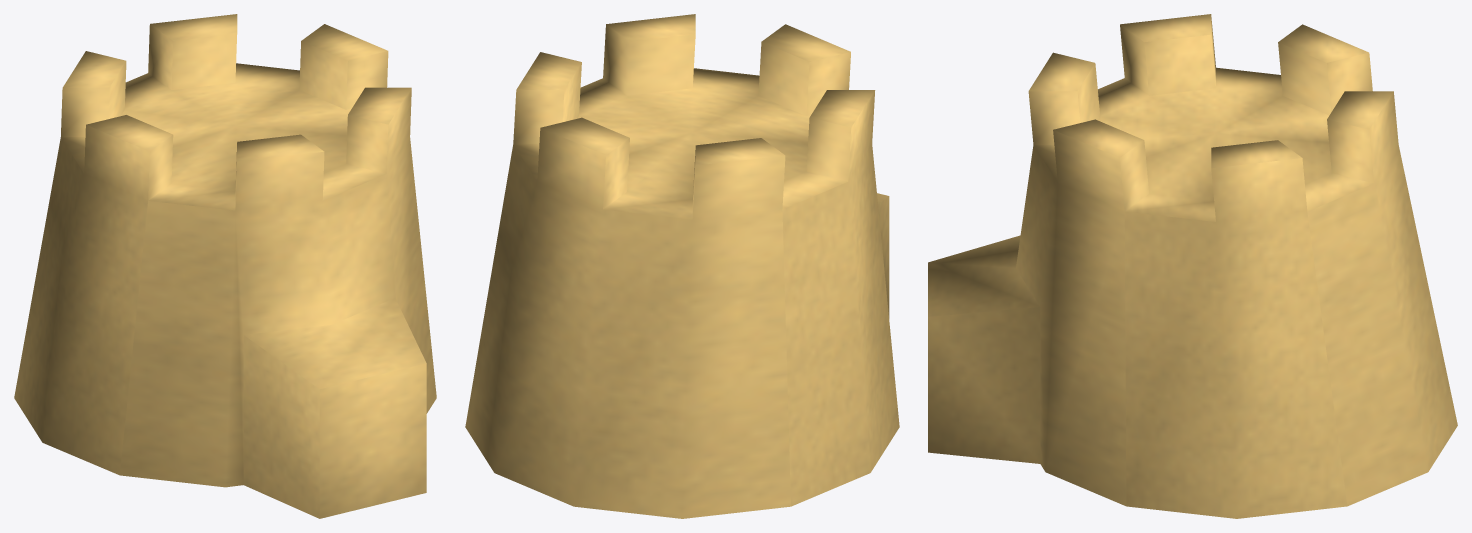
Rendered from SandCastle_03.FBX.
3 views of the same model, side by side, from view 1: azimuth 30°, elevation 25°; view 2: azimuth 150°, elevation 25°; view 3: azimuth 270°, elevation 25° (orthographic). The views are drawn at different scales.
Parts seen in each view (by area): view 1: SandCastle_03; view 2: SandCastle_03; view 3: SandCastle_03.
Part boxes in pixels (x1,y1,x2,y2): SandCastle_03: (14, 14, 436, 518); SandCastle_03: (465, 14, 899, 518); SandCastle_03: (928, 14, 1457, 518).
Size of the model in its own units: 0.3421 by 0.4101 by 0.2853.
